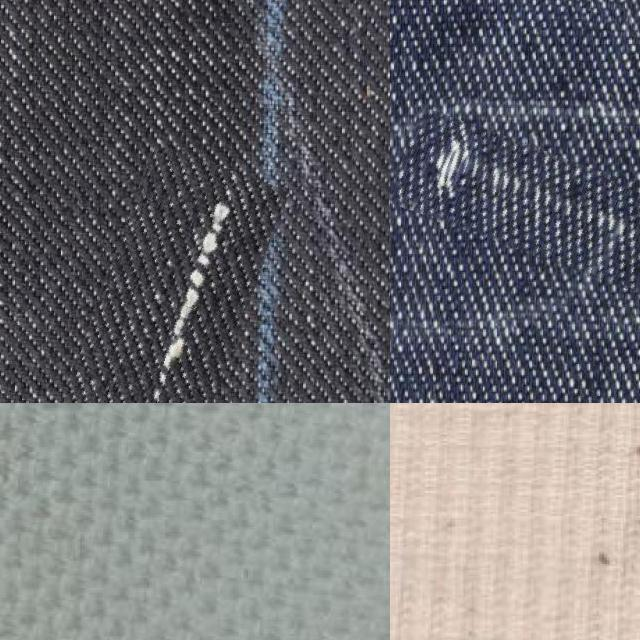Thread_other: (37, 147, 254, 403), (390, 128, 640, 274)
